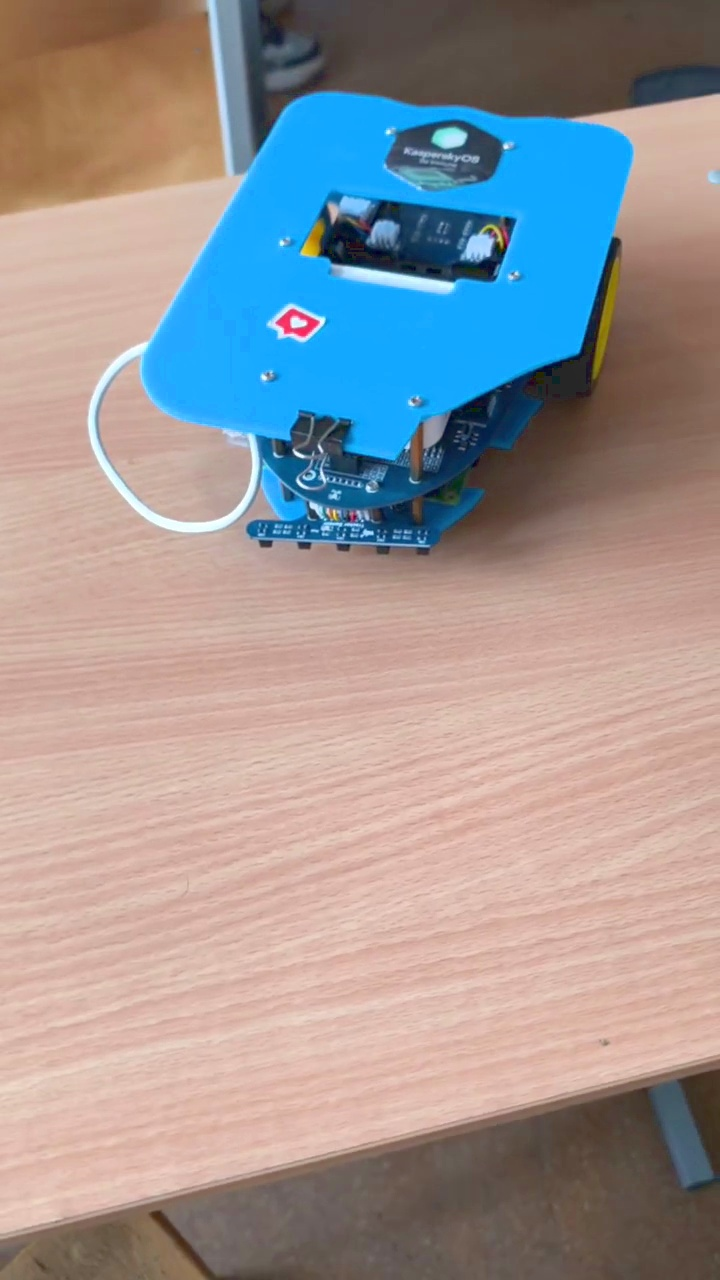robot: (85, 89, 637, 558)
